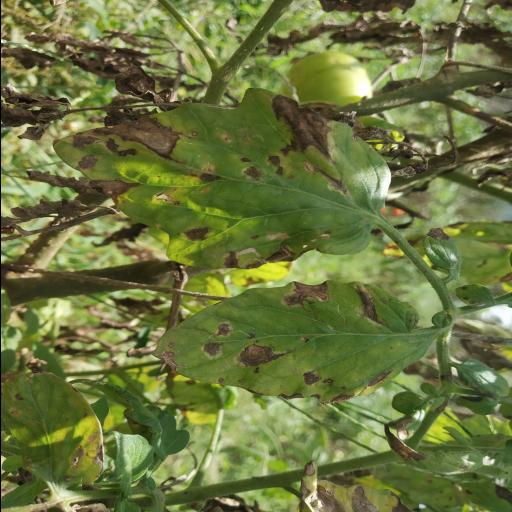disease_tomato: (46, 84, 394, 272), (147, 276, 439, 414)
